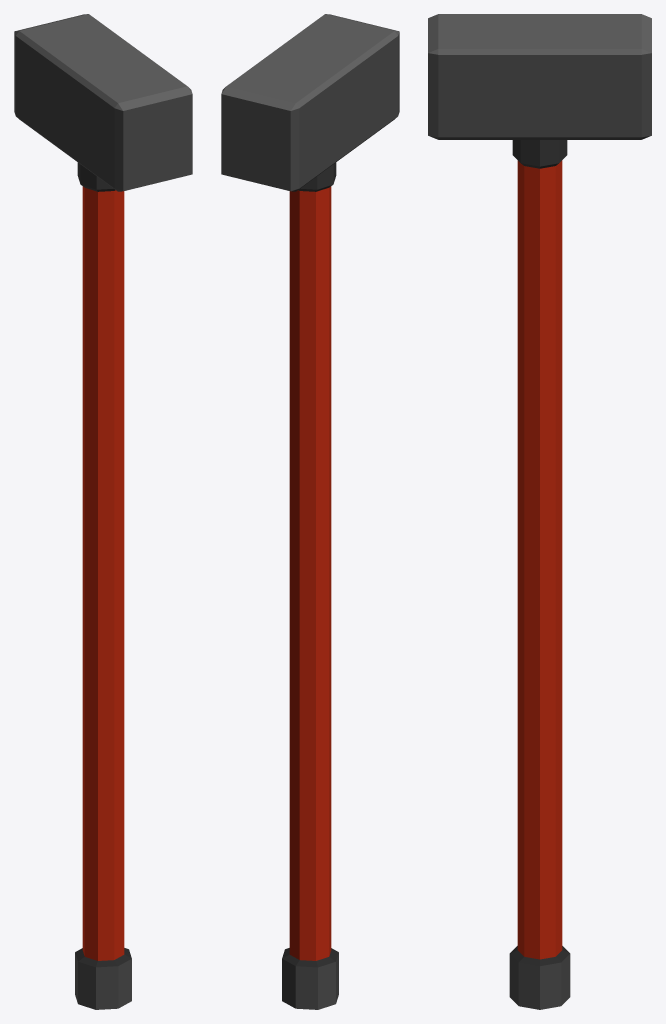
The model's file is sledgehammer_2.fbx.
3 views of the same model, side by side, from view 1: azimuth 30°, elevation 25°; view 2: azimuth 150°, elevation 25°; view 3: azimuth 270°, elevation 25° (orthographic). The views are drawn at different scales.
Visible parts, largest first — view 1: sledgehammer_2; view 2: sledgehammer_2; view 3: sledgehammer_2.
Boxes of the visible parts, x1,y1,x2,y2 form: sledgehammer_2: [14, 14, 192, 1009]; sledgehammer_2: [221, 14, 399, 1009]; sledgehammer_2: [428, 14, 651, 1009].
Bounding box in the file's own units: 18.62 × 218 × 45.84.
1 material, 1 textured.
